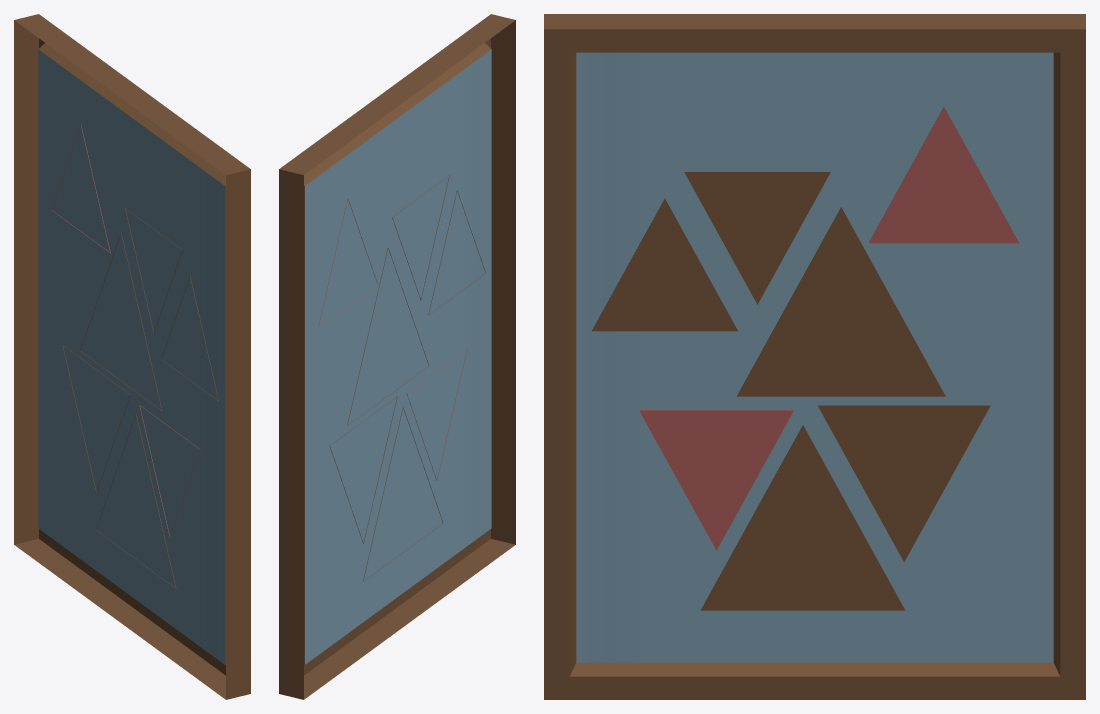
Rendered from Bedroom_Picture_1.fbx.
3 views of the same model, side by side, from view 1: azimuth 30°, elevation 25°; view 2: azimuth 150°, elevation 25°; view 3: azimuth 270°, elevation 25° (orthographic). The views are drawn at different scales.
Parts seen in each view (by area): view 1: Bedroom_Picture_1; view 2: Bedroom_Picture_1; view 3: Bedroom_Picture_1.
Boxes of the visible parts, x1,y1,x2,y2 form: Bedroom_Picture_1: (14, 14, 250, 699); Bedroom_Picture_1: (279, 14, 515, 699); Bedroom_Picture_1: (544, 14, 1085, 699).
Size of the model in its own units: 5.72 by 116 by 84.86.
